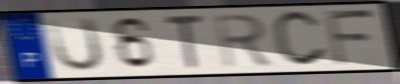6: (112, 16, 156, 72)
C: (270, 9, 330, 70)
F: (323, 8, 379, 68)
R: (212, 12, 275, 70)
T: (162, 13, 207, 71)
U: (45, 16, 106, 73)
